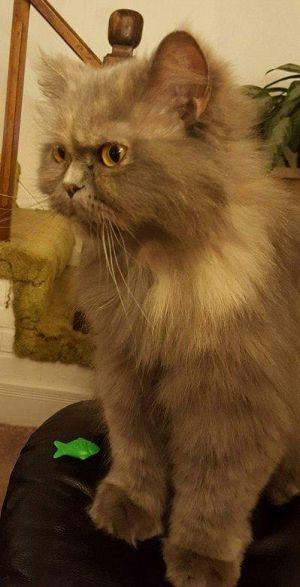persian: (29, 28, 240, 272)
